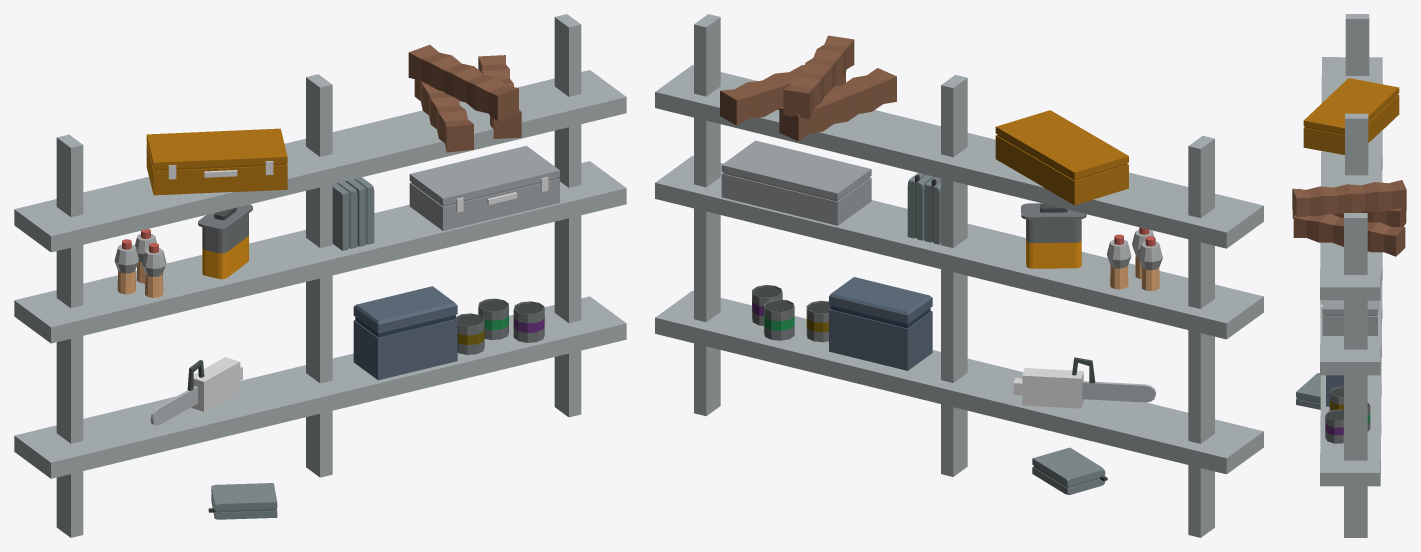
Rendered from Garage-Cabinet.fbx.
The picture shows the model from 3 angles, left to right: view 1: azimuth 30°, elevation 25°; view 2: azimuth 150°, elevation 25°; view 3: azimuth 270°, elevation 25°; orthographic projection. The views are drawn at different scales.
Parts seen in each view (by area): view 1: Garage-Cabinet, Box-1, Box-2, Box-3, Billet-2, Jerry-Can-4, Saw, Billet-3, Jerry-Can-3, Jerry-Can-2, Billet-1, Paint-Box-1 (+5 smaller); view 2: Garage-Cabinet, Box-1, Box-2, Box-3, Saw, Billet-3, Jerry-Can-4, Billet-2, Billet-1, Jerry-Can-3, Paint-Box-2, Jerry-Can-1 (+5 smaller); view 3: Garage-Cabinet, Box-2, Billet-2, Billet-1, Box-1, Jerry-Can-3, Billet-3, Paint-Box-1, Paint-Box-3, Box-3.
Boxes of the visible parts, x1,y1,x2,y2 form: Garage-Cabinet: (14, 14, 626, 537); Box-1: (409, 145, 559, 230); Box-2: (146, 128, 287, 195); Box-3: (353, 286, 457, 380); Billet-2: (408, 44, 518, 121); Jerry-Can-4: (198, 204, 252, 279); Saw: (150, 357, 242, 425); Billet-3: (414, 79, 473, 152); Jerry-Can-3: (208, 483, 277, 519); Jerry-Can-2: (332, 181, 357, 250); Billet-1: (478, 55, 521, 138); Paint-Box-1: (513, 301, 544, 342); Garage-Cabinet: (655, 14, 1263, 537); Box-1: (721, 140, 871, 225); Box-2: (995, 110, 1128, 205); Box-3: (829, 277, 932, 370); Saw: (1013, 357, 1155, 408); Billet-3: (779, 68, 896, 141); Jerry-Can-4: (1021, 203, 1086, 268); Billet-2: (783, 35, 854, 118); Billet-1: (720, 65, 845, 125); Jerry-Can-3: (1032, 447, 1107, 494); Paint-Box-2: (764, 299, 794, 340); Jerry-Can-1: (907, 173, 934, 240); Garage-Cabinet: (1320, 14, 1382, 537); Box-2: (1303, 78, 1399, 154); Billet-2: (1292, 180, 1406, 216); Billet-1: (1293, 214, 1405, 256); Box-1: (1320, 300, 1378, 335); Jerry-Can-3: (1296, 373, 1320, 409); Billet-3: (1292, 188, 1406, 226); Paint-Box-1: (1325, 409, 1343, 443); Paint-Box-3: (1329, 386, 1343, 410); Box-3: (1326, 375, 1343, 406).
Size of the model in its own units: 4.63 by 3 by 0.9698.
